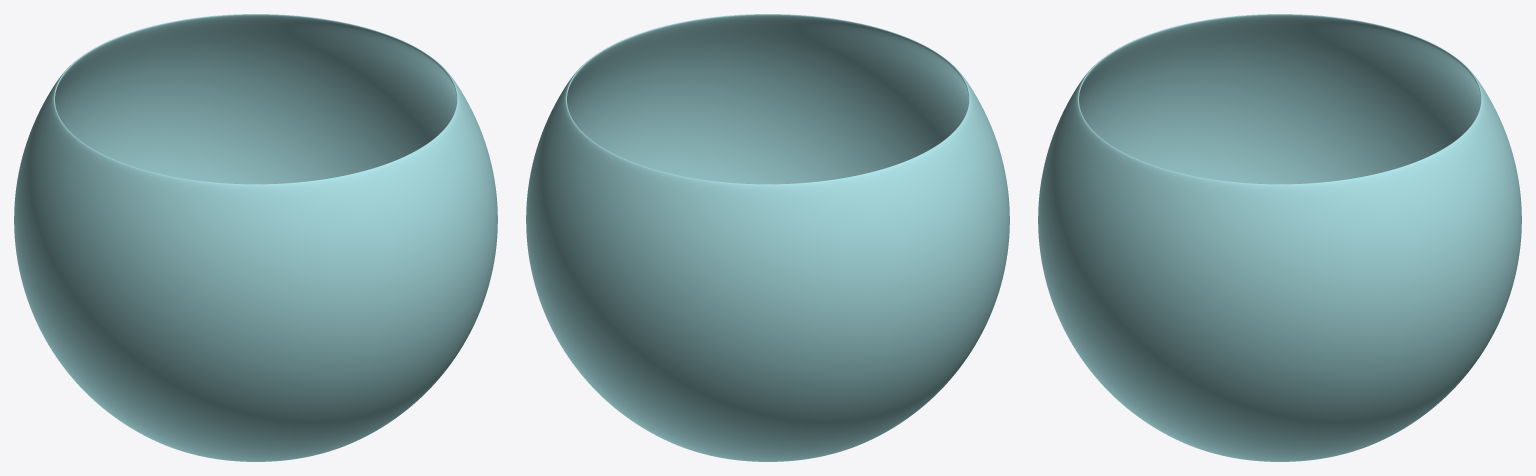
Rendered from FishTank.fbx.
The picture shows the model from 3 angles, left to right: view 1: azimuth 30°, elevation 25°; view 2: azimuth 150°, elevation 25°; view 3: azimuth 270°, elevation 25°; orthographic projection.
Visible parts, largest first — view 1: Tank; view 2: Tank; view 3: Tank.
Boxes of the visible parts, bbox=[...] form: Tank: bbox=[14, 14, 497, 461]; Tank: bbox=[526, 14, 1009, 461]; Tank: bbox=[1038, 14, 1521, 461].
Size of the model in its own units: 197 by 147 by 197.
